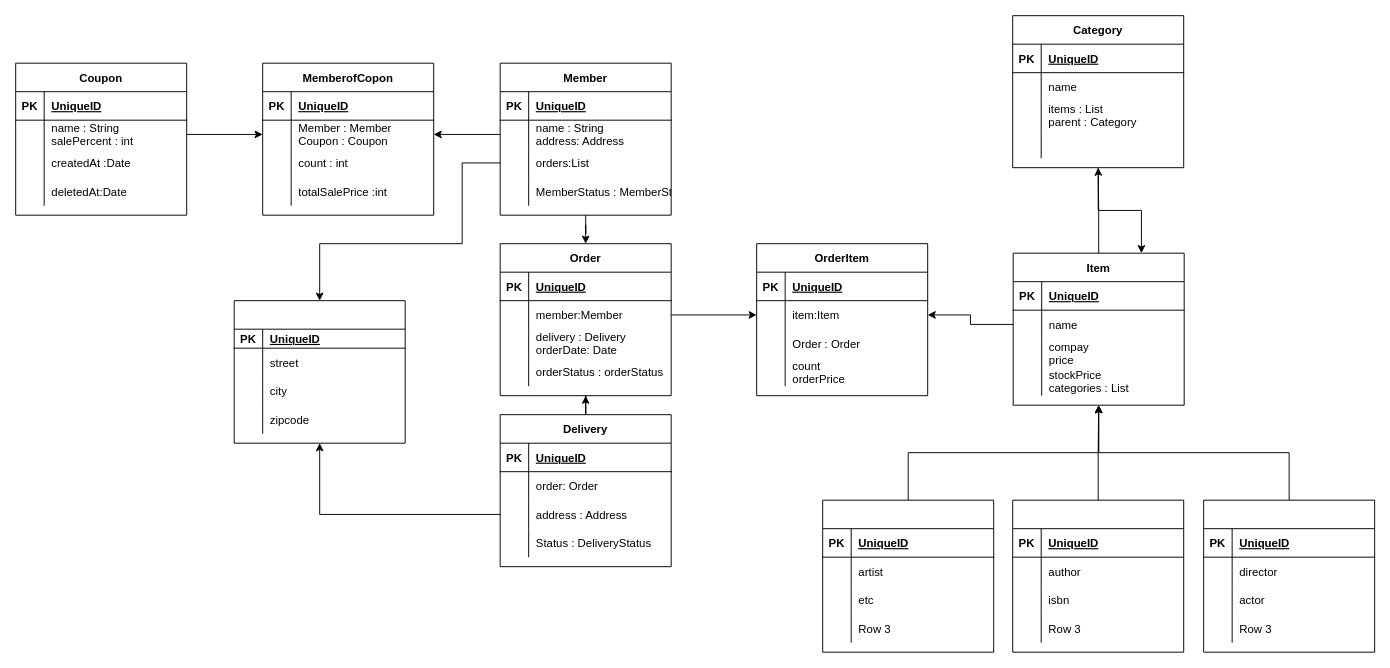
The diagram is 1390 pixels wide and 668 high, and some of its shapes have lost their labels. The shapes that lost their labels are listed below. From the top down, each one's box as (x1, y1, x2, y2) in pixels, then its label:
(233, 300, 405, 443): Address
(822, 499, 994, 652): Book
(1012, 499, 1184, 652): Album
(1203, 499, 1375, 652): Movie
